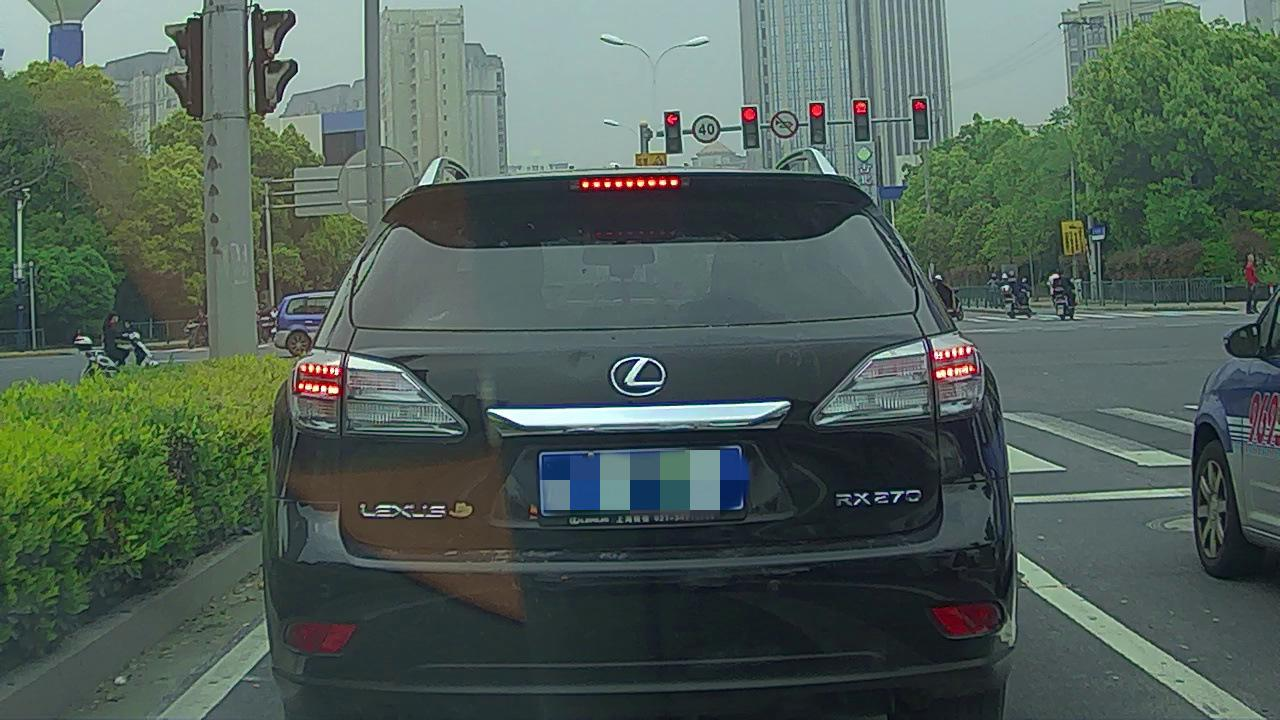traffic_light: (911, 97, 930, 141), (742, 106, 759, 151), (852, 100, 870, 142), (665, 111, 682, 153), (810, 102, 826, 145)
